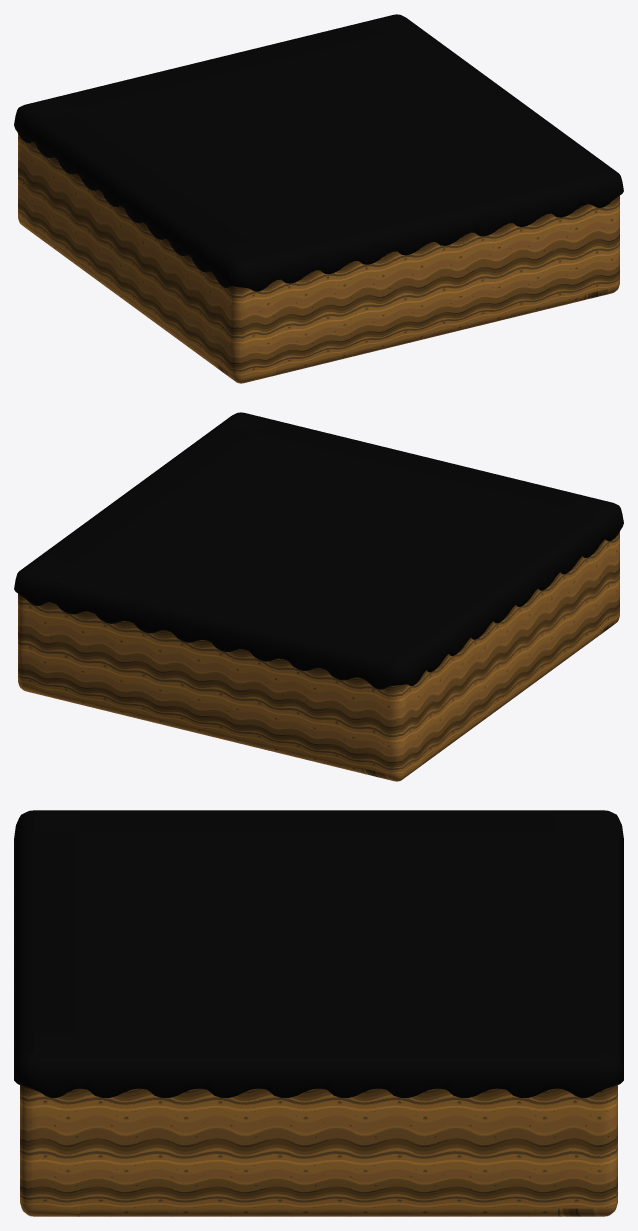
File: 10x10_Platform_Dirt.FBX
The picture shows the model from 3 angles, top to bottom: view 1: azimuth 30°, elevation 25°; view 2: azimuth 150°, elevation 25°; view 3: azimuth 270°, elevation 25°; orthographic projection. The views are drawn at different scales.
Parts seen in each view (by area): view 1: 10x10_Platform_Dirt; view 2: 10x10_Platform_Dirt; view 3: 10x10_Platform_Dirt.
Part boxes in pixels (box(x1,y1,x2,y2)): 10x10_Platform_Dirt: box(14, 14, 623, 383); 10x10_Platform_Dirt: box(14, 412, 623, 781); 10x10_Platform_Dirt: box(14, 810, 623, 1216).
Size of the model in its own units: 1020 by 1020 by 300.
